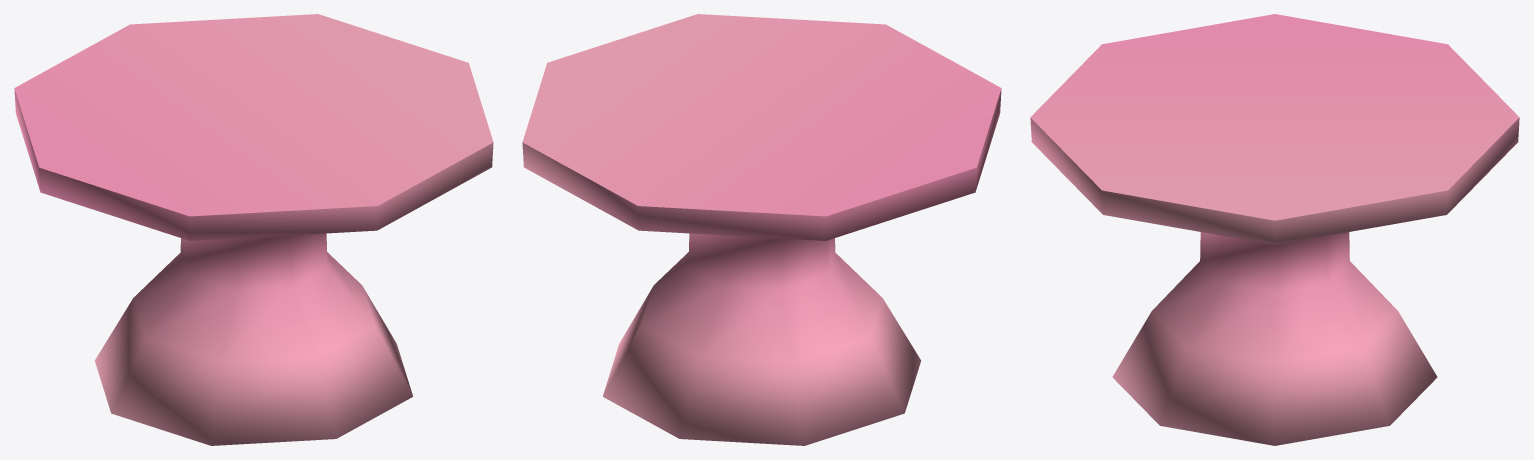
Rendered from Cake_Display_B.FBX.
3 renders of one model, left to right at view 1: azimuth 30°, elevation 25°; view 2: azimuth 150°, elevation 25°; view 3: azimuth 270°, elevation 25°, orthographic.
Visible parts, largest first — view 1: Cake Display; view 2: Cake Display; view 3: Cake Display.
Part boxes in pixels (box(x1,y1,x2,y2)): Cake Display: box(14, 14, 493, 445); Cake Display: box(522, 14, 1001, 445); Cake Display: box(1030, 14, 1519, 445).
Bounding box in the file's own units: 89.08 × 52.2 × 89.08.
